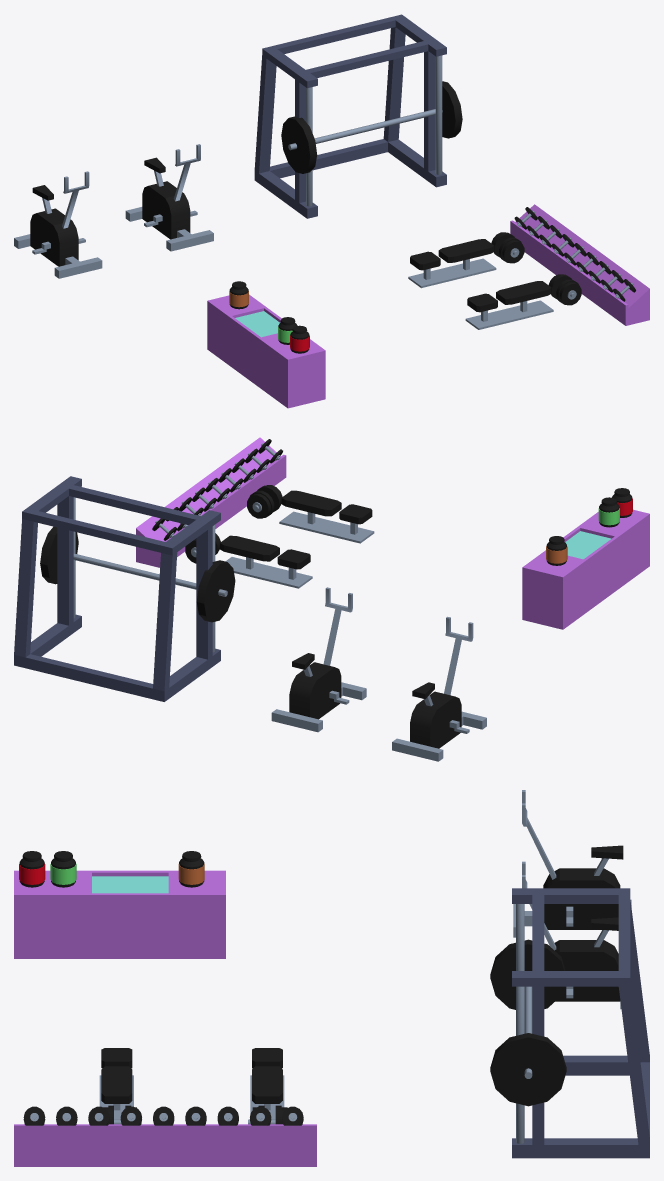
File: Gym_Gym_Platform.fbx
The picture shows the model from 3 angles, top to bottom: view 1: azimuth 30°, elevation 25°; view 2: azimuth 150°, elevation 25°; view 3: azimuth 270°, elevation 25°; orthographic projection. The views are drawn at different scales.
Visible parts, largest first — view 1: Cube.228, Cube.221, Cube.223, Cube.227, Cube.230, Cylinder.053, Cube.229, Cube.226, Circle.001, Cylinder.052, Circle.004, Circle.005; view 2: Cube.228, Cube.221, Cube.223, Cube.227, Cube.230, Cylinder.053, Cube.226, Cube.229, Circle.001, Circle.005, Cylinder.055, Cylinder.056; view 3: Cube.221, Cube.228, Cube.223, Cylinder.053, Cube.230, Cube.227, Circle.001, Cube.226, Cube.229, Cylinder.054, Cylinder.056, Cylinder.055 (+2 smaller).
Part boxes in pixels (x1,y1,x2,y2): Cube.228: [254, 14, 446, 218]; Cube.221: [207, 294, 325, 408]; Cube.223: [510, 204, 649, 325]; Cube.227: [125, 144, 213, 251]; Cube.230: [14, 171, 102, 278]; Cylinder.053: [281, 81, 462, 173]; Cube.229: [408, 239, 496, 288]; Cube.226: [465, 281, 553, 329]; Circle.001: [514, 207, 635, 301]; Cylinder.052: [435, 55, 442, 174]; Circle.004: [491, 232, 524, 263]; Circle.005: [548, 274, 581, 305]; Cube.228: [14, 476, 220, 701]; Cube.221: [522, 509, 649, 629]; Cube.223: [136, 437, 286, 567]; Cube.227: [271, 587, 366, 732]; Cube.230: [392, 616, 486, 761]; Cylinder.053: [40, 526, 235, 622]; Cube.226: [279, 490, 374, 543]; Cube.229: [220, 535, 312, 588]; Circle.001: [152, 439, 282, 540]; Circle.005: [247, 485, 282, 518]; Cylinder.055: [598, 497, 619, 527]; Cylinder.056: [546, 536, 567, 565]; Cube.221: [14, 870, 225, 958]; Cube.228: [512, 888, 649, 1158]; Cube.223: [14, 1124, 316, 1166]; Cylinder.053: [490, 939, 566, 1106]; Cube.230: [513, 790, 631, 937]; Cube.227: [522, 861, 621, 1009]; Circle.001: [23, 1106, 303, 1125]; Cube.226: [99, 1048, 133, 1119]; Cube.229: [250, 1048, 284, 1119]; Cylinder.054: [19, 851, 45, 887]; Cylinder.056: [178, 851, 204, 887]; Cylinder.055: [50, 851, 76, 887].
Bounding box in the file's own units: 869 × 282 × 900.
